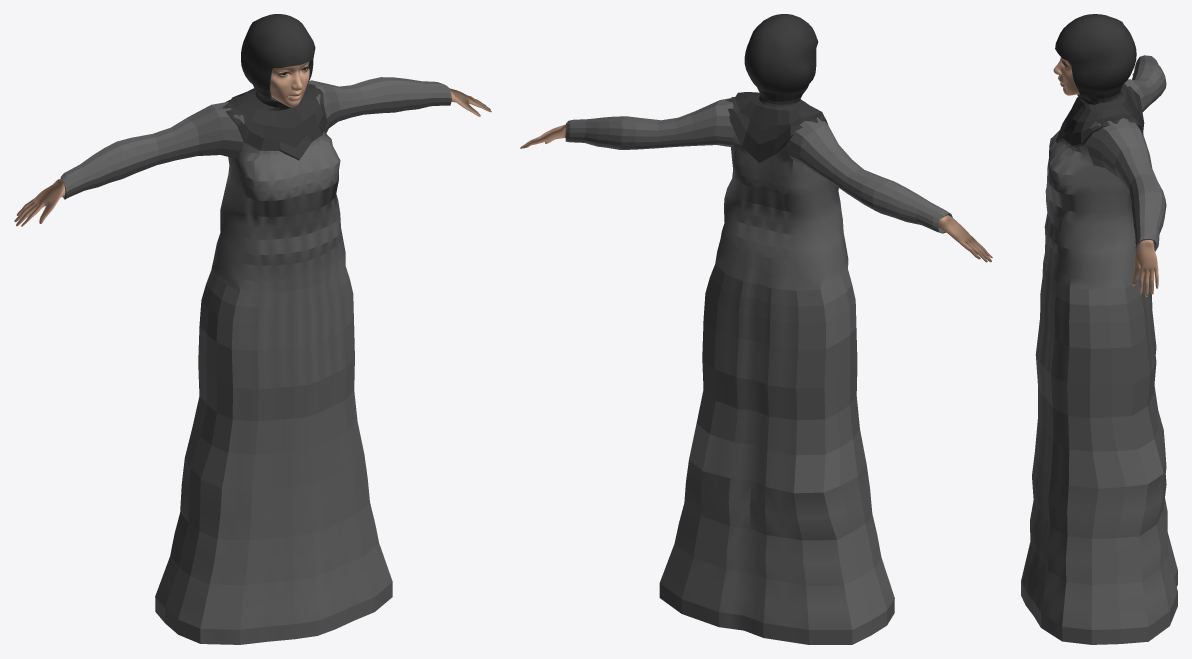
Rendered from Women.fbx.
The picture shows the model from 3 angles, left to right: view 1: azimuth 30°, elevation 25°; view 2: azimuth 150°, elevation 25°; view 3: azimuth 270°, elevation 25°; orthographic projection. The views are drawn at different scales.
Visible parts, largest first — view 1: Mcloth1, Hcloth1, Skin1; view 2: Mcloth1, Hcloth1, Skin1; view 3: Mcloth1, Hcloth1, Skin1.
Part boxes in pixels (<box>): Mcloth1: <box>60,77,451,644</box>; Hcloth1: <box>222,14,327,160</box>; Skin1: <box>14,61,491,226</box>; Mcloth1: <box>565,97,952,644</box>; Hcloth1: <box>726,14,828,162</box>; Skin1: <box>520,124,992,262</box>; Mcloth1: <box>1021,55,1177,644</box>; Hcloth1: <box>1055,14,1144,147</box>; Skin1: <box>1053,57,1158,296</box>.
Bounding box in the file's own units: 8.51 × 10.11 × 2.48.
Materials: 7 (1 with a texture image).
